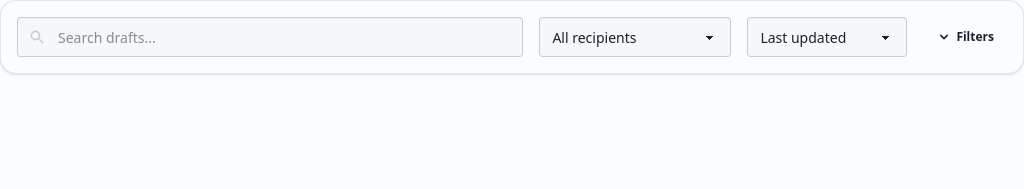
it: FilterPanel Component › Date range integration › should pass date range props to DateRangePicker
# Open advanced filters
What coordinates should you click on to do the following:
click the button "Filters"
I would click on:
 (965, 37)
Its box is [923,21,1007,53].
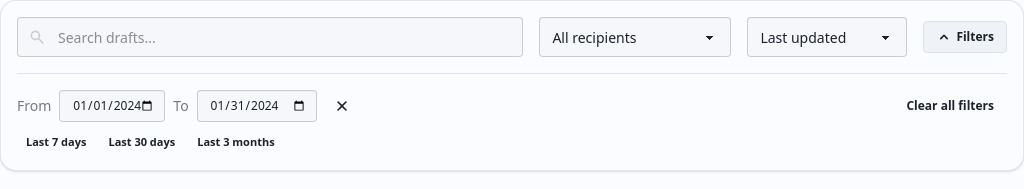
Result: the text "From" is shown at [17,96,51,116]
Result: the text "To" is shown at [173,96,189,116]
